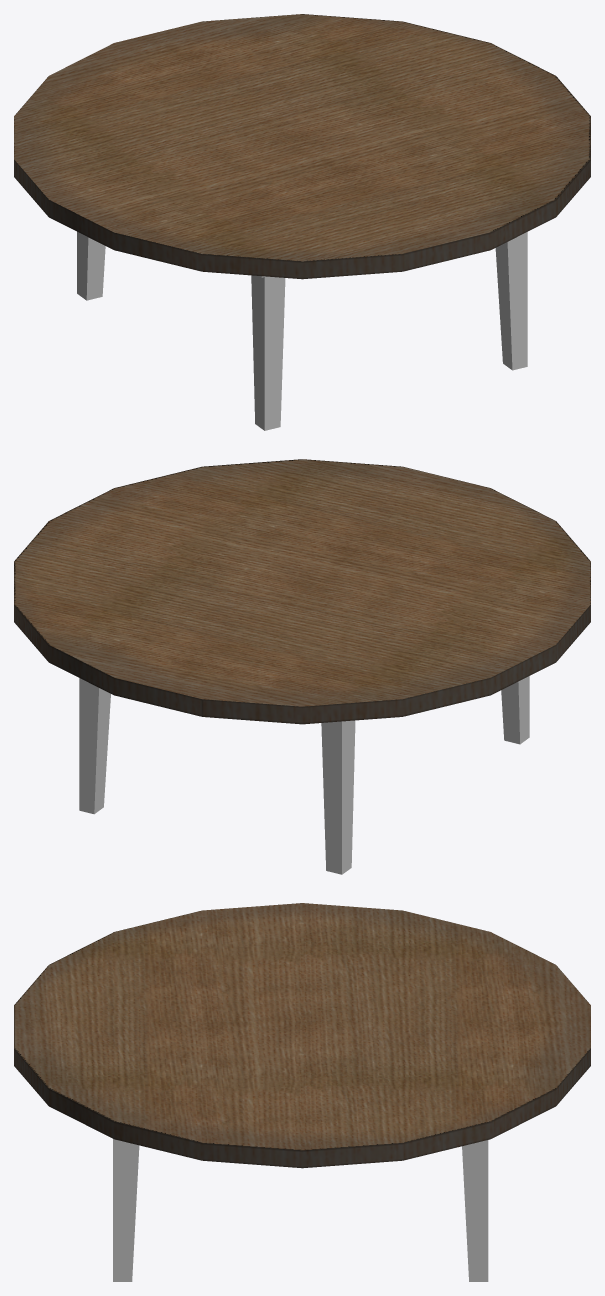
File: KitchenTable_Q_UN_TEX.FBX
3 views of the same model, one above another, from view 1: azimuth 30°, elevation 25°; view 2: azimuth 150°, elevation 25°; view 3: azimuth 270°, elevation 25° (orthographic).
Visible parts, largest first — view 1: tableTop, TableLegs001; view 2: tableTop, TableLegs001; view 3: tableTop, TableLegs001.
Boxes of the visible parts, x1,y1,x2,y2 form: tableTop: (14, 14, 590, 279); TableLegs001: (77, 231, 527, 430); tableTop: (14, 459, 590, 724); TableLegs001: (79, 676, 529, 874); tableTop: (14, 903, 590, 1168); TableLegs001: (113, 1139, 488, 1281).
Size of the model in its own units: 90.59 by 32.68 by 89.21.
